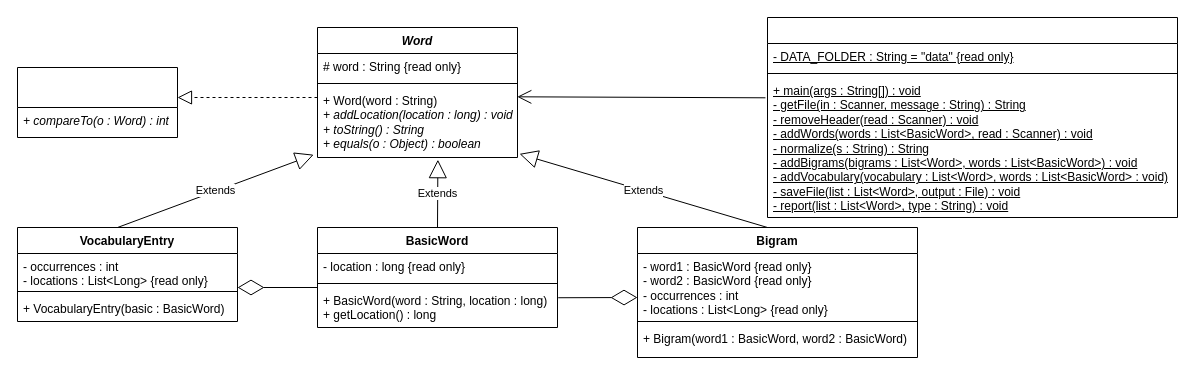
The diagram is 1195 pixels wide and 378 high, and some of its shapes have lost their labels. Here are the shapes that lost their labels. From the top down, the box of each, then its label:
(16, 66, 178, 138): <<interface>> Comparable<Word>
(766, 16, 1178, 218): Driver
